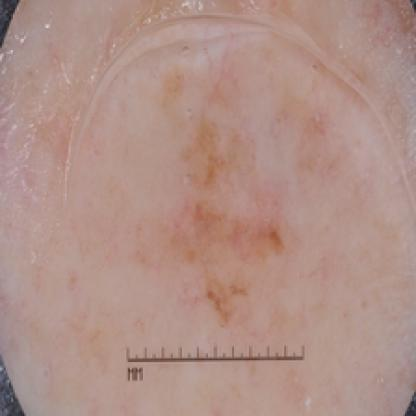malignant: (173, 96, 299, 327)
